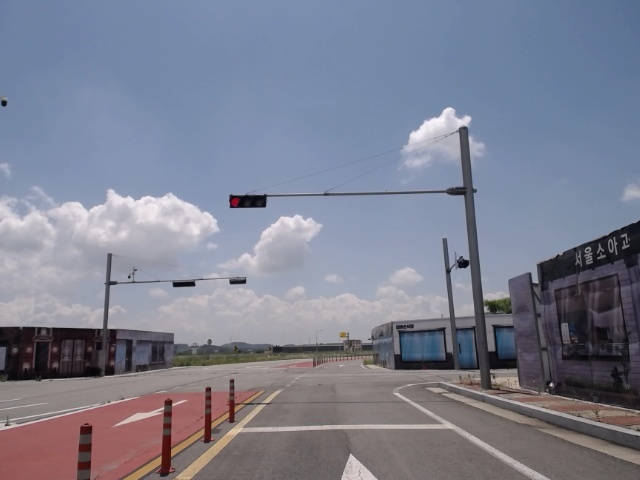red_3: (229, 193, 268, 209)
